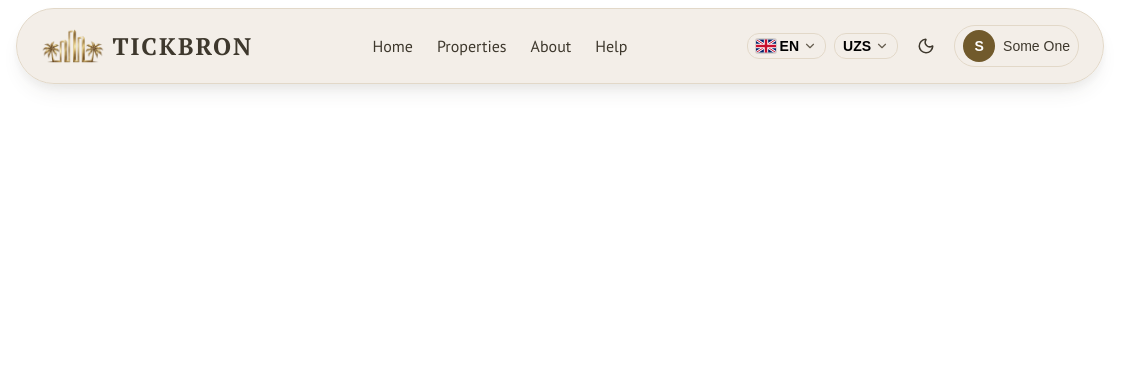
Scenario: Header › shows the partner dashboard link to hotel owners but not the admin link
Step 1. Click the button "S Some One" → (1016, 46), box [954,25,1079,67]
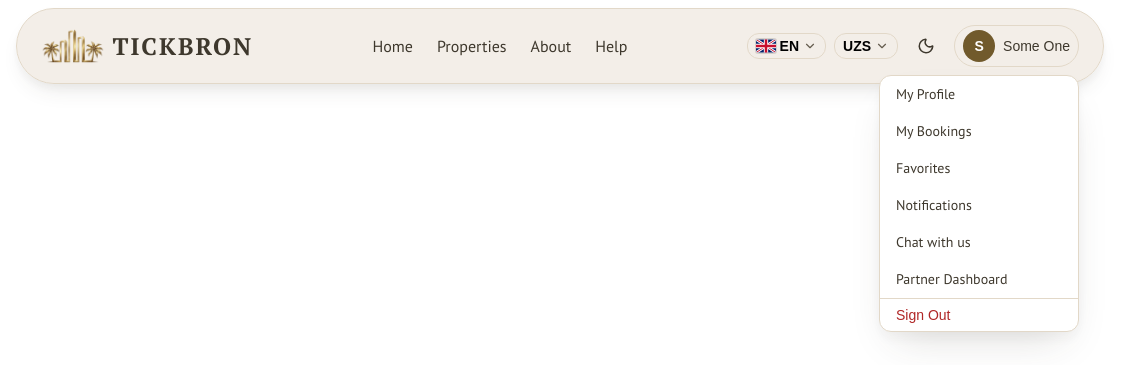
Result: the link "Partner Dashboard" is shown at [896,270,1007,288]
